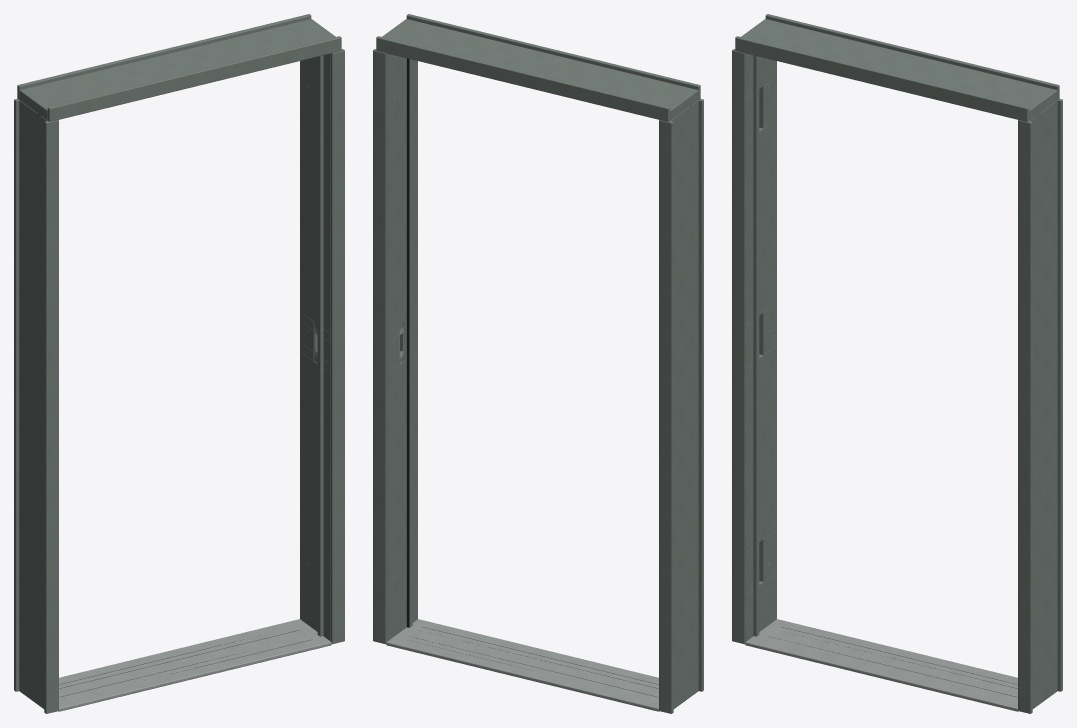
Rendered from SM_DoorFrame_Service.fbx.
3 renders of one model, left to right at view 1: azimuth 30°, elevation 25°; view 2: azimuth 150°, elevation 25°; view 3: azimuth 330°, elevation 25°, orthographic.
Visible parts, largest first — view 1: SM_DoorFrame_Service; view 2: SM_DoorFrame_Service; view 3: SM_DoorFrame_Service.
Boxes of the visible parts, x1=… form: SM_DoorFrame_Service: x1=14, y1=14, x2=344, y2=713; SM_DoorFrame_Service: x1=373, y1=14, x2=703, y2=713; SM_DoorFrame_Service: x1=732, y1=14, x2=1062, y2=713.
Size of the model in its own units: 1.1 by 0.208 by 2.14.
